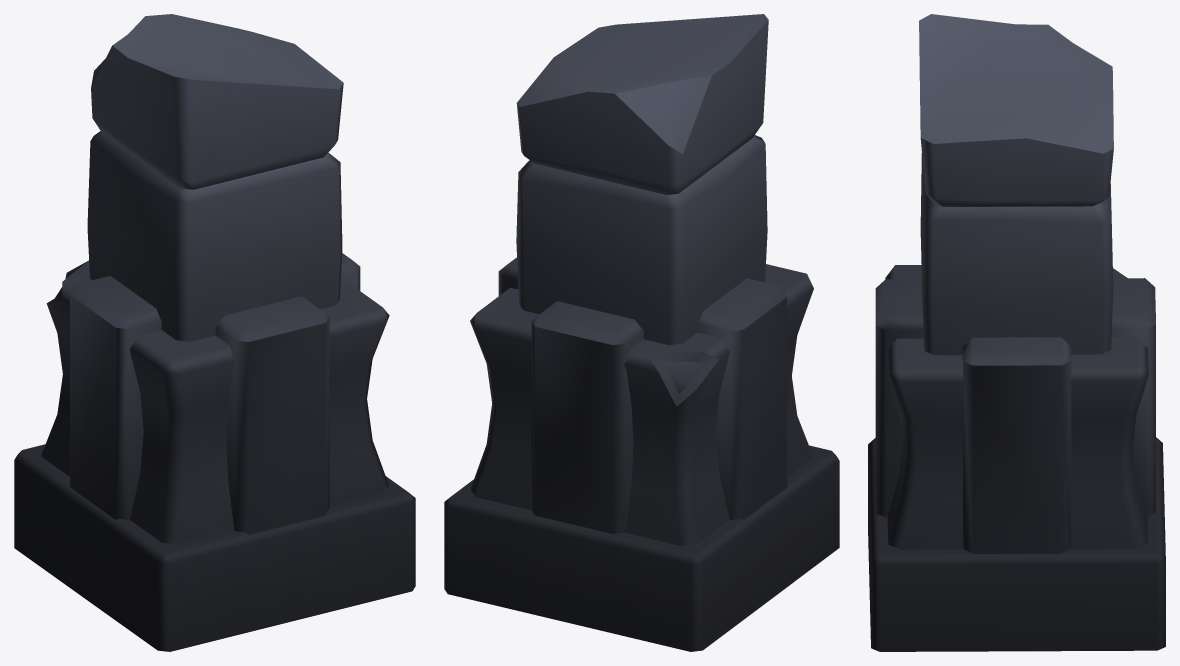
File: column.fbx
The picture shows the model from 3 angles, left to right: view 1: azimuth 30°, elevation 25°; view 2: azimuth 150°, elevation 25°; view 3: azimuth 270°, elevation 25°; orthographic projection.
Visible parts, largest first — view 1: Column_1; view 2: Column_1; view 3: Column_1.
Part boxes in pixels (bbox=[...]): Column_1: bbox=[14, 14, 415, 651]; Column_1: bbox=[444, 14, 839, 651]; Column_1: bbox=[868, 14, 1165, 651].
Size of the model in its own units: 164 by 325 by 164.
Materials: 1 (1 with a texture image).
